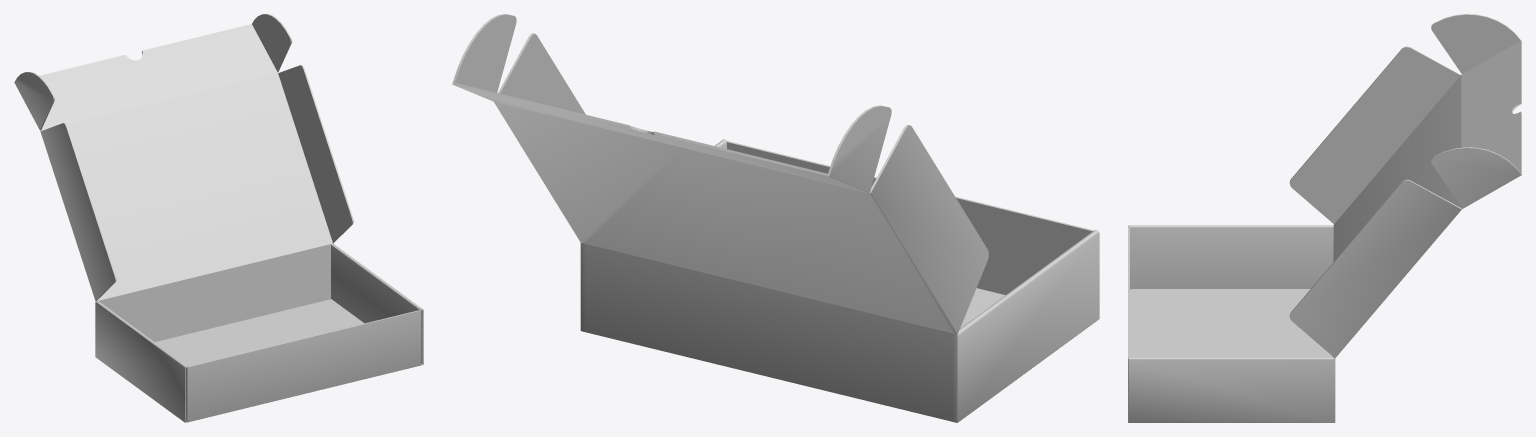
Rendered from Die cut.glb.
3 renders of one model, left to right at view 1: azimuth 30°, elevation 25°; view 2: azimuth 150°, elevation 25°; view 3: azimuth 270°, elevation 25°, orthographic. The views are drawn at different scales.
Parts seen in each view (by area): view 1: Box3.001; view 2: Box3.001; view 3: Box3.001.
Part boxes in pixels (<box>): Box3.001: <box>14,14,423,422</box>; Box3.001: <box>452,14,1099,422</box>; Box3.001: <box>1128,14,1521,422</box>.
Bounding box in the file's own units: 3.47 × 3.32 × 4.3.
Materials: 1 (1 with a texture image).
